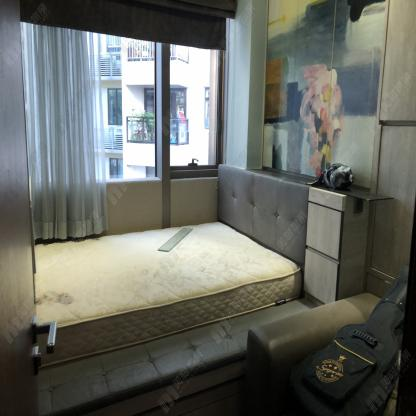Bed: (33, 163, 307, 369)
